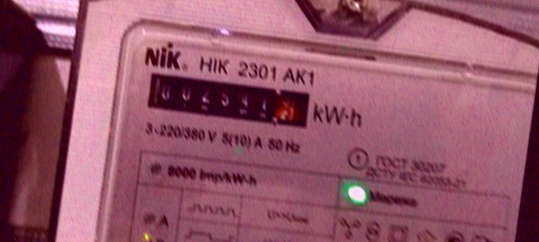0: (157, 77, 172, 100), (178, 78, 192, 100)
1: (256, 90, 270, 111)
2: (198, 82, 212, 103)
4: (237, 86, 252, 109)
5: (216, 83, 231, 107)
6: (277, 105, 290, 121)
screen: (134, 60, 322, 138)
